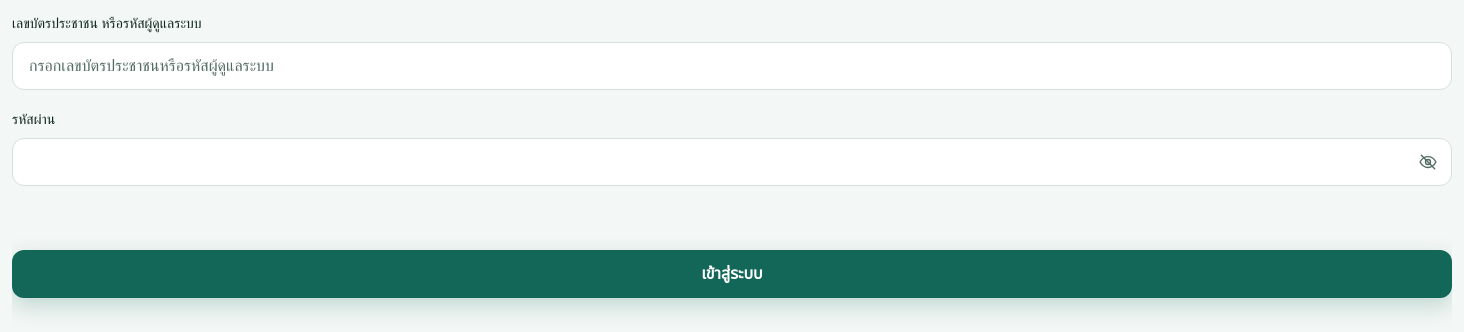
Scenario: Login form › keeps the entered identifier after rejected credentials
Type "1234567890123" into the field with id "nationalId" at (732, 66), box left=12, top=42, right=1452, bottom=90
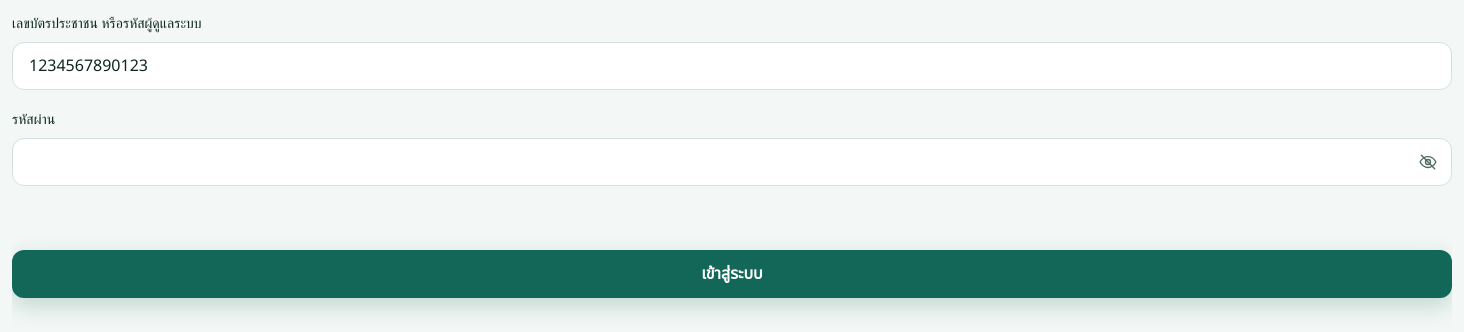
Type "secret-password" into the password field labelled "รหัสผ่าน" at (732, 162), box left=12, top=138, right=1452, bottom=186
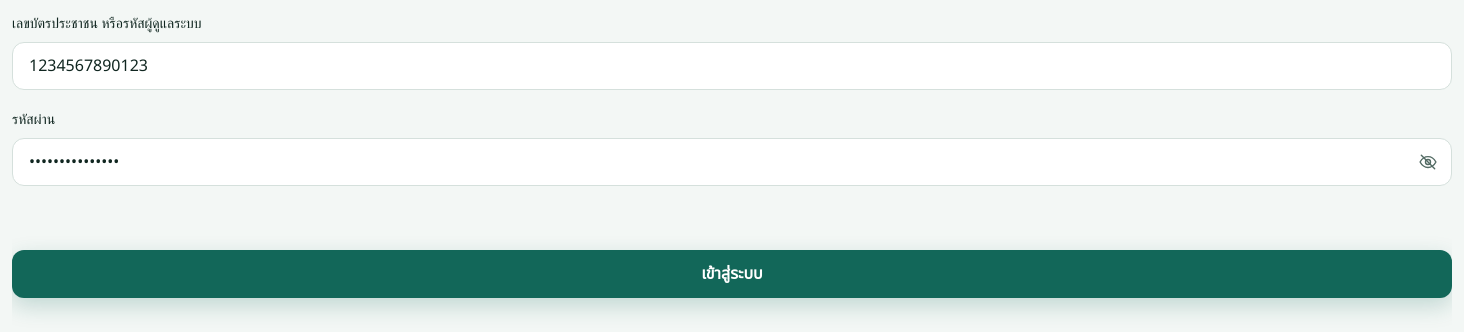
Click the button "เข้าสู่ระบบ" at (732, 274), box left=12, top=250, right=1452, bottom=298
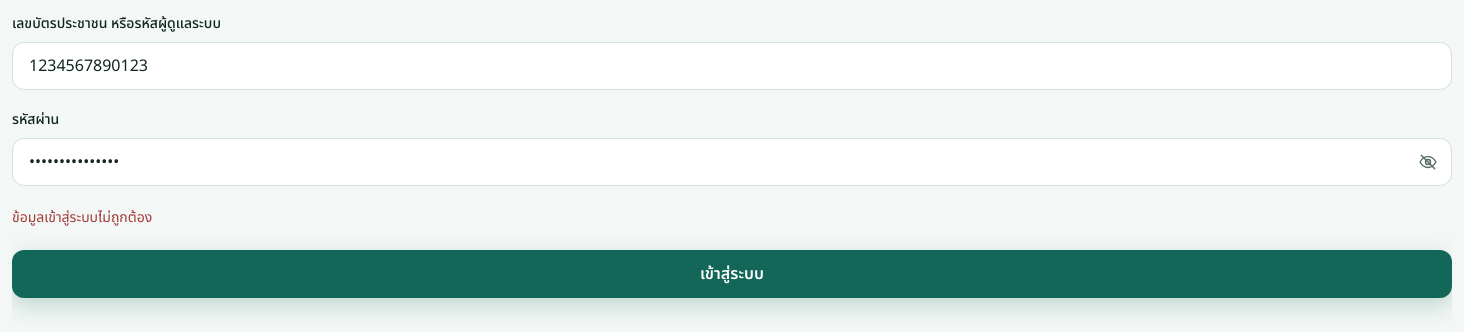
Expected: the message with id "login-error" reads "ข้อมูลเข้าสู่ระบบไม่ถูกต้อง", left=12, top=207, right=152, bottom=228
